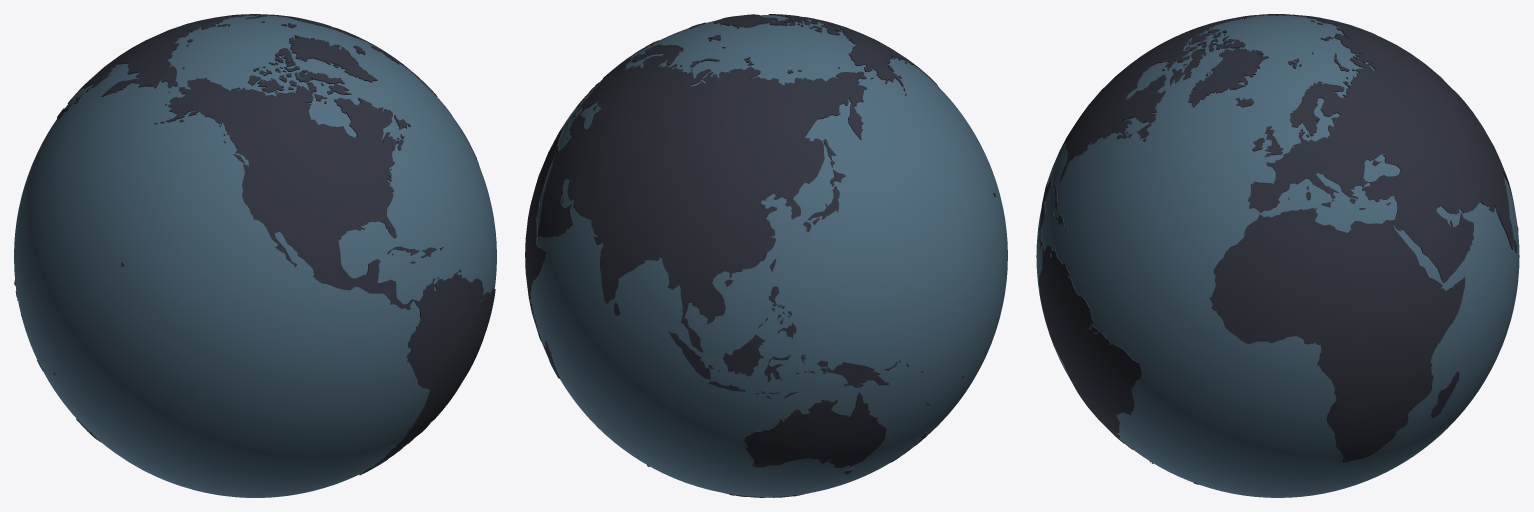
File: earth.glb
3 views of the same model, side by side, from view 1: azimuth 30°, elevation 25°; view 2: azimuth 150°, elevation 25°; view 3: azimuth 270°, elevation 25° (orthographic).
Visible parts, largest first — view 1: Globe; view 2: Globe; view 3: Globe.
Part boxes in pixels (x1,y1,x2,y2): Globe: (14, 14, 496, 497); Globe: (525, 14, 1007, 497); Globe: (1036, 14, 1519, 497).
Bounding box in the file's own units: 4.03 × 4.03 × 4.02.
